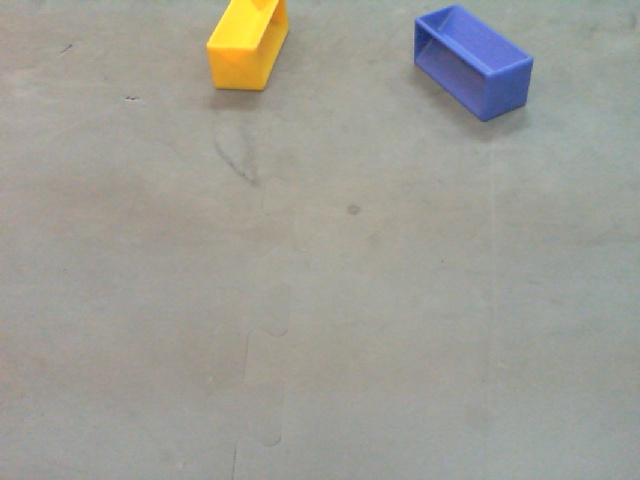BlueSample: (413, 4, 536, 128)
YellowSample: (204, 1, 291, 91)
